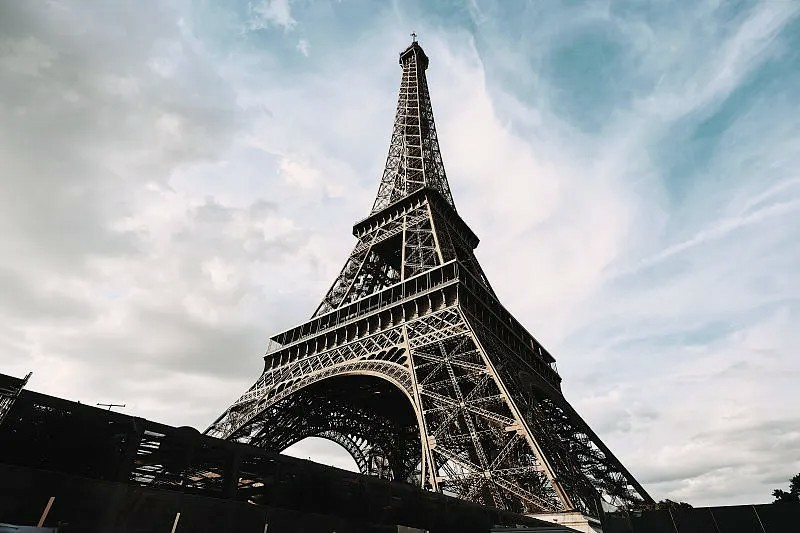Eiffel: (201, 31, 658, 533)
